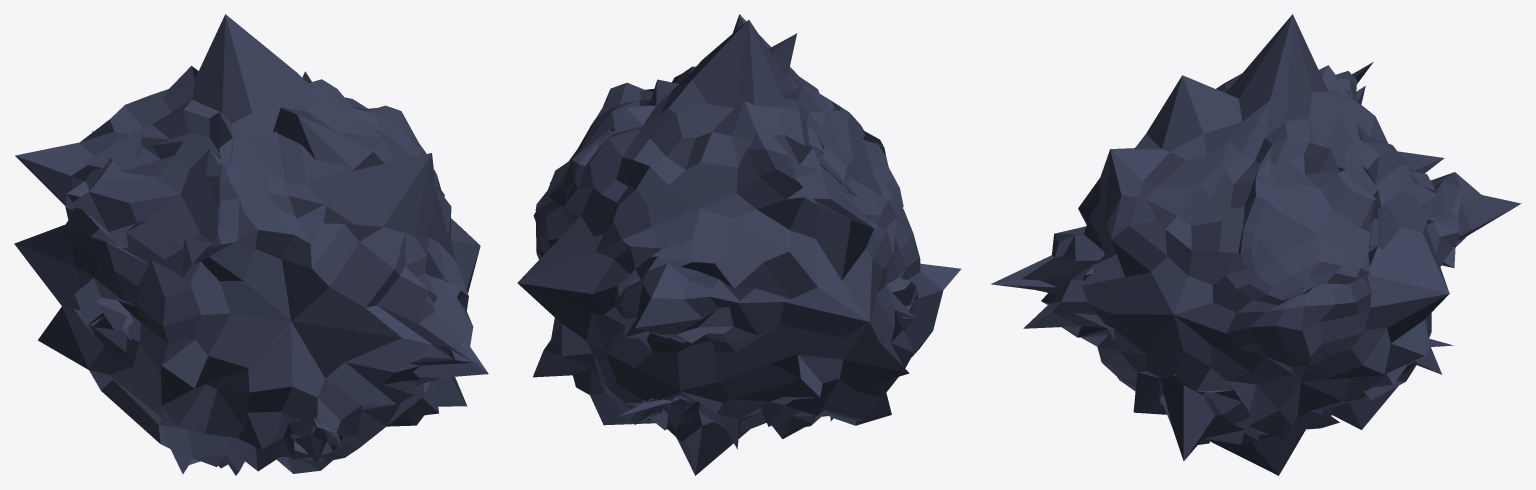
Rendered from rock.glb.
The picture shows the model from 3 angles, left to right: view 1: azimuth 30°, elevation 25°; view 2: azimuth 150°, elevation 25°; view 3: azimuth 270°, elevation 25°; orthographic projection. The views are drawn at different scales.
Parts seen in each view (by area): view 1: Cube.001; view 2: Cube.001; view 3: Cube.001.
Part boxes in pixels (<box>): Cube.001: <box>14,14,488,475</box>; Cube.001: <box>517,14,961,475</box>; Cube.001: <box>991,14,1521,475</box>.
Bounding box in the file's own units: 6.51 × 7.73 × 8.56.
